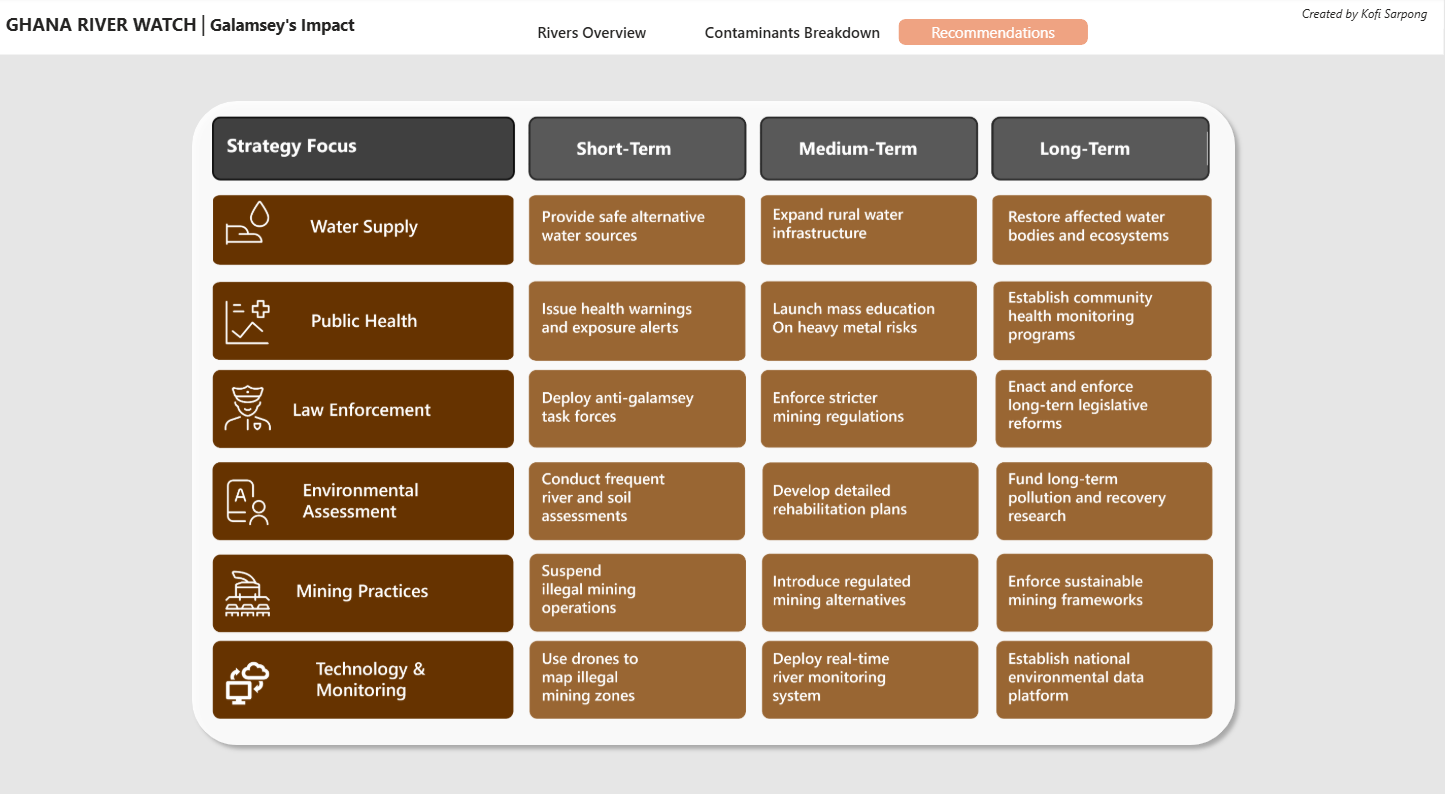

What the dashboard file says about the page in this screenshot:
{"tool":"powerbi","page":{"name":"Recommendations","canvas":[1280,720],"ordinal":2},"visuals":[{"type":"shape","box":[161.4,83.3,942.6,588.8],"z":0},{"type":"shape","box":[0,0,1280.4,51.4],"z":1000},{"type":"textbox","box":[0,5.3,349.4,52.3],"z":2000},{"type":"textbox","box":[1148.8,0,131.2,28.4],"z":3000},{"type":"image","box":[0,101.1,1268.9,544.4],"z":4000},{"type":"pageNavigator","box":[440.7,19.5,524.9,23.9],"z":5000}]}

Visuals, with their boxes in screenshot pixels (x1, y1, x2, y2), scaled from the page's 1280x720 canvas onto the 1445x794 screenshot:
shape: <bbox>182, 92, 1246, 741</bbox>
shape: <bbox>0, 0, 1444, 57</bbox>
textbox: <bbox>0, 6, 394, 64</bbox>
textbox: <bbox>1297, 0, 1444, 31</bbox>
image: <bbox>0, 111, 1432, 712</bbox>
pageNavigator: <bbox>498, 22, 1090, 48</bbox>
